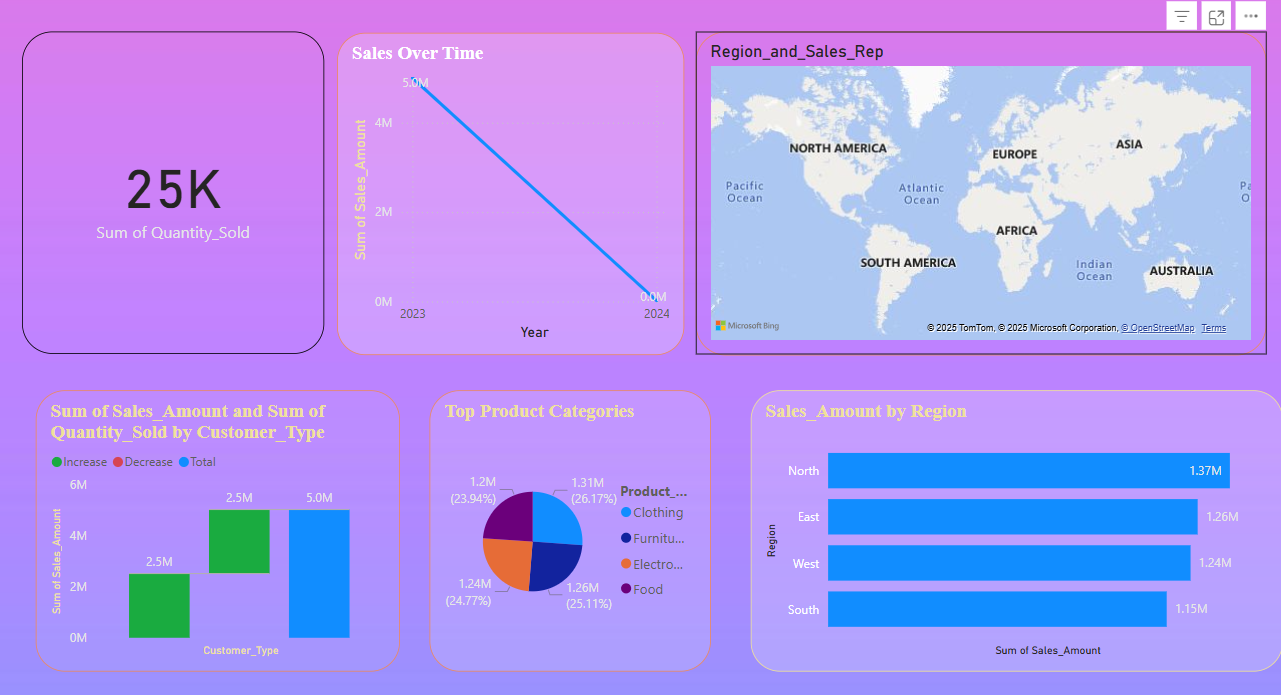

Layout of this report page (visuals, bound fields, positions):
{"tool":"powerbi","page":{"name":"Page 1","canvas":[1280,720],"ordinal":0},"visuals":[{"type":"lineChart","title":"Sales Over Time","fields":{"Category":["sales_data.Sale_Date.Variation.Date Hierarchy.Year"],"Y":["Sum(sales_data.Sales_Amount)"]},"box":[338.9,38.4,345.8,321.1],"z":0},{"type":"pieChart","title":"Top Product Categories","fields":{"Category":["sales_data.Product_Category"],"Y":["Sum(sales_data.Sales_Amount)"]},"box":[430.9,393.8,279.9,279.9],"z":1000},{"type":"waterfallChart","fields":{"Category":["sales_data.Customer_Type"],"Y":["Sum(sales_data.Sales_Amount)"]},"box":[38.4,393.8,362.3,279.9],"z":2000},{"type":"barChart","title":"Sales_Amount by Region","fields":{"Category":["sales_data.Region"],"Y":["Sum(sales_data.Sales_Amount)"]},"box":[750.6,393.8,529.7,279.9],"z":3000},{"type":"map","fields":{"Series":["sales_data.Region_and_Sales_Rep"]},"box":[695.7,37,568.1,322.5],"z":4000},{"type":"card","fields":{"Values":["Sum(sales_data.Quantity_Sold)"]},"box":[24.7,37,300.5,321.1],"z":5000}]}

Visuals, with their boxes on the page's 1280x720 design canvas (x1, y1, x2, y2). These are canvas units, not pixel positions in the 1281x695 screenshot, which may show the page scaled, cropped or inside an application window:
"Sales Over Time" lineChart: x1=339 y1=38 x2=685 y2=360
"Top Product Categories" pieChart: x1=431 y1=394 x2=711 y2=674
waterfallChart - sales_data.Customer_Type x Sum(sales_data.Sales_Amount): x1=38 y1=394 x2=401 y2=674
"Sales_Amount by Region" barChart: x1=751 y1=394 x2=1280 y2=674
map - sales_data.Region_and_Sales_Rep: x1=696 y1=37 x2=1264 y2=360
card - Sum(sales_data.Quantity_Sold): x1=25 y1=37 x2=325 y2=358
